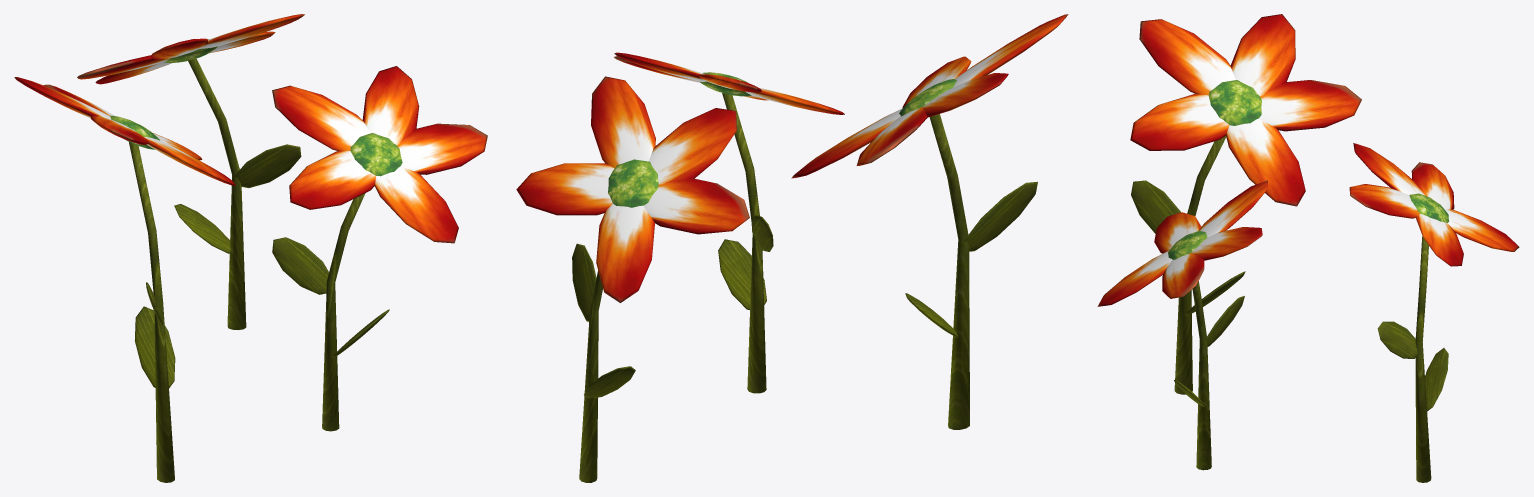
File: redflower.fbx
3 views of the same model, side by side, from view 1: azimuth 30°, elevation 25°; view 2: azimuth 150°, elevation 25°; view 3: azimuth 270°, elevation 25° (orthographic). The views are drawn at different scales.
Parts seen in each view (by area): view 1: Mesh; view 2: Mesh; view 3: Mesh.
Part boxes in pixels (x1,y1,x2,y2): Mesh: (14,14,487,482); Mesh: (516,14,1068,482); Mesh: (1097,14,1519,482).
Bounding box in the file's own units: 16.56 × 14.61 × 16.55.
